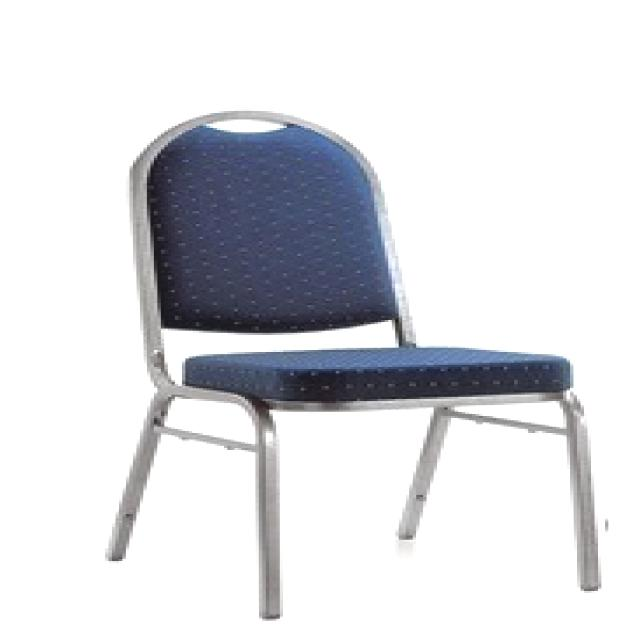Chair: (99, 108, 609, 622)
